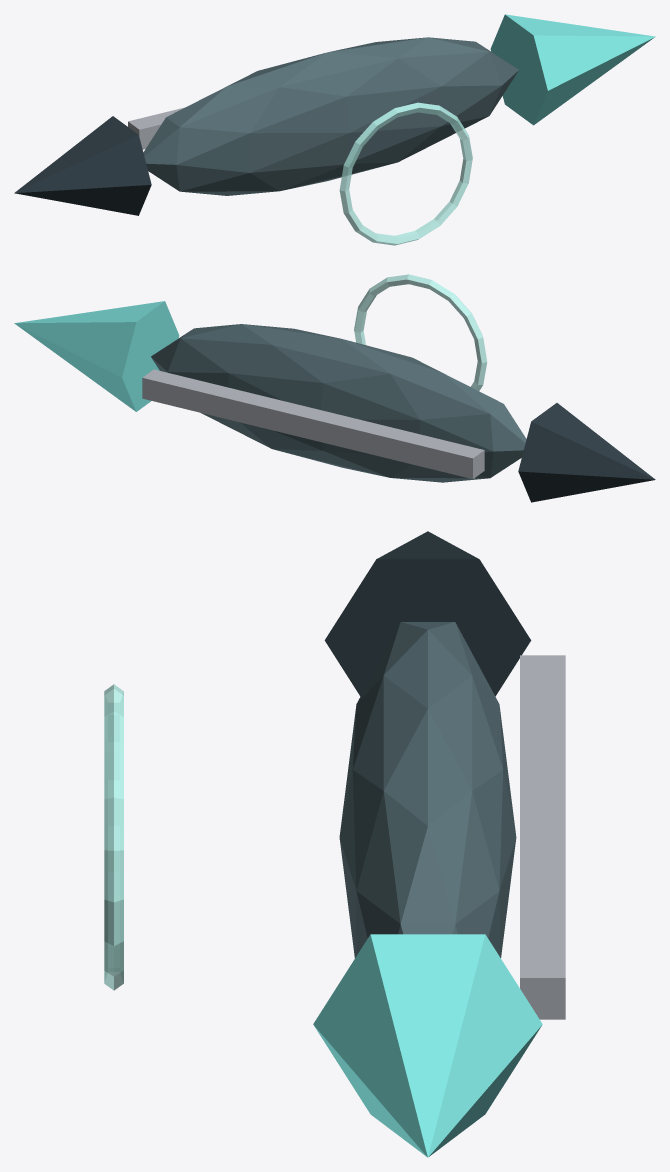
Rendered from 05_skyship_hull.glb.
3 views of the same model, one above another, from view 1: azimuth 30°, elevation 25°; view 2: azimuth 150°, elevation 25°; view 3: azimuth 270°, elevation 25° (orthographic). The views are drawn at different scales.
Visible parts, largest first — view 1: hull_low_poly, bow_upgrade, stern_fin, size_class_ring, keel_plate; view 2: hull_low_poly, keel_plate, bow_upgrade, stern_fin, size_class_ring; view 3: hull_low_poly, bow_upgrade, stern_fin, keel_plate, size_class_ring.
Boxes of the visible parts, x1=… form: hull_low_poly: x1=143, y1=37, x2=518, y2=195; bow_upgrade: x1=490, y1=14, x2=655, y2=125; stern_fin: x1=14, y1=116, x2=151, y2=215; size_class_ring: x1=339, y1=102, x2=472, y2=245; keel_plate: x1=128, y1=107, x2=184, y2=149; hull_low_poly: x1=151, y1=324, x2=526, y2=482; keel_plate: x1=142, y1=369, x2=484, y2=478; bow_upgrade: x1=14, y1=301, x2=179, y2=411; stern_fin: x1=518, y1=403, x2=655, y2=502; size_class_ring: x1=354, y1=274, x2=487, y2=390; hull_low_poly: x1=339, y1=622, x2=516, y2=957; bow_upgrade: x1=313, y1=934, x2=542, y2=1157; stern_fin: x1=324, y1=531, x2=531, y2=696; keel_plate: x1=520, y1=655, x2=565, y2=1019; size_class_ring: x1=104, y1=684, x2=123, y2=990.
Size of the model in its own units: 3.87 by 0.7918 by 1.21.
